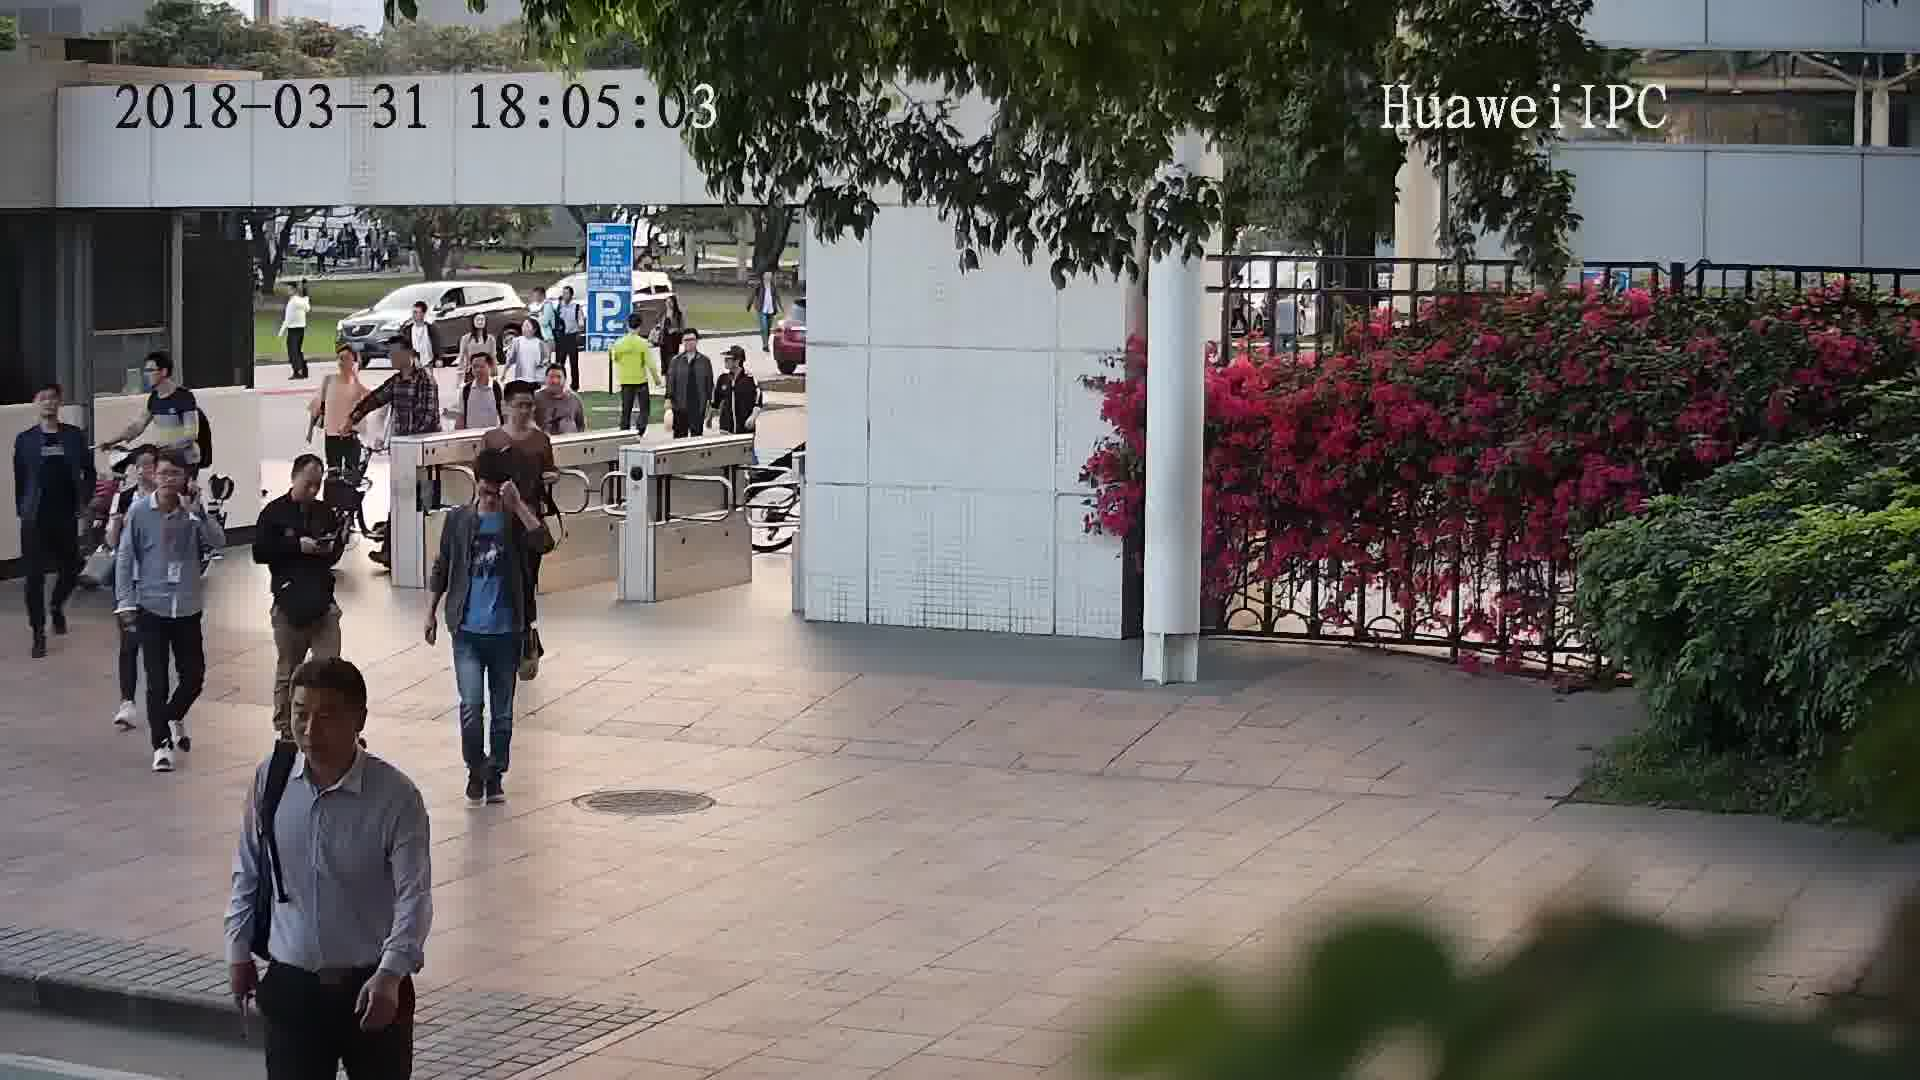face: (280, 685, 365, 770), (289, 466, 323, 506), (151, 462, 187, 500), (33, 385, 59, 421)
person: (238, 654, 421, 822), (127, 447, 217, 535), (444, 447, 529, 536), (261, 450, 345, 524), (17, 380, 92, 458), (480, 380, 555, 457), (143, 348, 202, 414), (109, 447, 161, 508), (382, 333, 436, 390), (457, 347, 509, 403), (324, 340, 371, 393), (535, 360, 584, 409), (718, 343, 759, 391), (671, 325, 715, 369), (616, 308, 659, 351), (511, 315, 546, 350), (652, 294, 686, 328), (460, 312, 494, 345), (530, 283, 561, 319), (404, 300, 437, 332), (283, 275, 313, 308), (755, 268, 785, 297), (557, 282, 584, 312)
